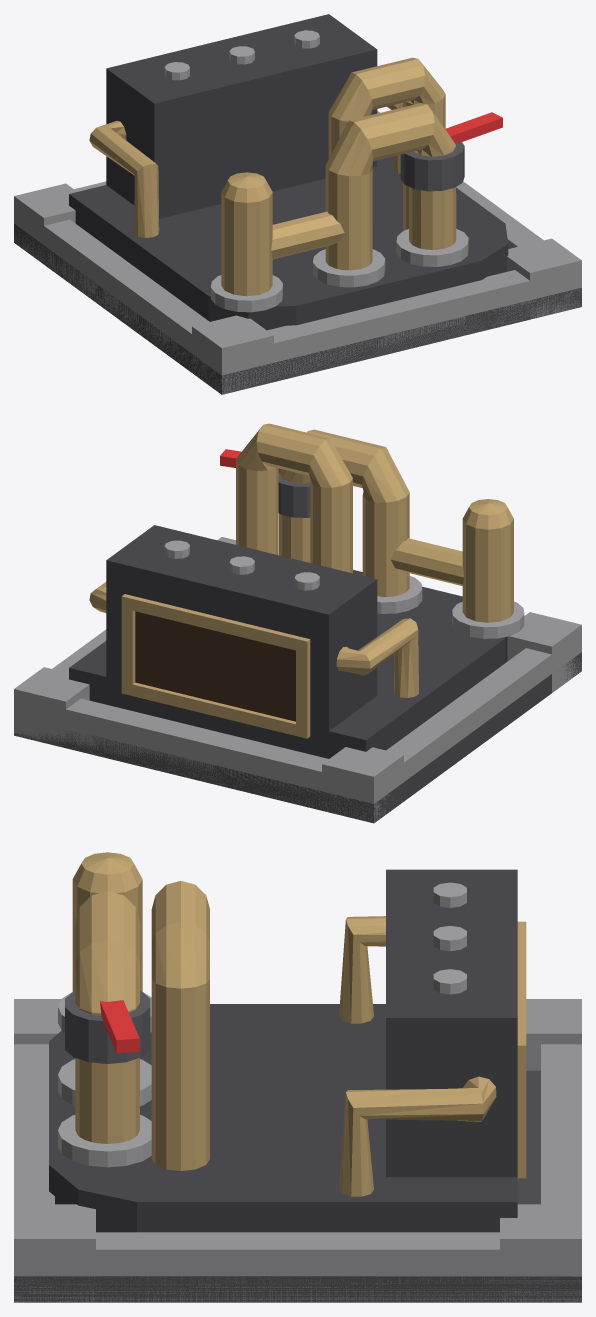
File: vge_oxygen_reclaimer.obj
The picture shows the model from 3 angles, top to bottom: view 1: azimuth 30°, elevation 25°; view 2: azimuth 150°, elevation 25°; view 3: azimuth 270°, elevation 25°; orthographic projection. The views are drawn at different scales.
Visible parts, largest first — view 1: vge_oxygen_reclaimer_10, vge_oxygen_reclaimer_9, vge_oxygen_reclaimer_1, vge_oxygen_reclaimer_25, vge_oxygen_reclaimer_0, vge_oxygen_reclaimer_3, vge_oxygen_reclaimer_24, vge_oxygen_reclaimer_27, vge_oxygen_reclaimer_19, vge_oxygen_reclaimer_5, vge_oxygen_reclaimer_7, vge_oxygen_reclaimer_26 (+8 smaller); view 2: vge_oxygen_reclaimer_10, vge_oxygen_reclaimer_2, vge_oxygen_reclaimer_9, vge_oxygen_reclaimer_18, vge_oxygen_reclaimer_27, vge_oxygen_reclaimer_0, vge_oxygen_reclaimer_25, vge_oxygen_reclaimer_3, vge_oxygen_reclaimer_24, vge_oxygen_reclaimer_8, vge_oxygen_reclaimer_19, vge_oxygen_reclaimer_5 (+10 smaller); view 3: vge_oxygen_reclaimer_9, vge_oxygen_reclaimer_10, vge_oxygen_reclaimer_4, vge_oxygen_reclaimer_0, vge_oxygen_reclaimer_27, vge_oxygen_reclaimer_25, vge_oxygen_reclaimer_2, vge_oxygen_reclaimer_20, vge_oxygen_reclaimer_1, vge_oxygen_reclaimer_7, vge_oxygen_reclaimer_8, vge_oxygen_reclaimer_19 (+12 smaller).
Boxes of the visible parts, bbox=[...] form: vge_oxygen_reclaimer_10: bbox=[106, 14, 377, 218]; vge_oxygen_reclaimer_9: bbox=[69, 156, 508, 330]; vge_oxygen_reclaimer_1: bbox=[207, 268, 581, 394]; vge_oxygen_reclaimer_25: bbox=[325, 103, 456, 270]; vge_oxygen_reclaimer_0: bbox=[14, 223, 581, 394]; vge_oxygen_reclaimer_3: bbox=[29, 215, 209, 382]; vge_oxygen_reclaimer_24: bbox=[221, 172, 272, 296]; vge_oxygen_reclaimer_27: bbox=[328, 57, 445, 229]; vge_oxygen_reclaimer_19: bbox=[89, 120, 159, 237]; vge_oxygen_reclaimer_5: bbox=[192, 315, 273, 393]; vge_oxygen_reclaimer_7: bbox=[507, 238, 581, 319]; vge_oxygen_reclaimer_26: bbox=[271, 211, 344, 259]; vge_oxygen_reclaimer_10: bbox=[106, 525, 377, 758]; vge_oxygen_reclaimer_2: bbox=[14, 698, 388, 823]; vge_oxygen_reclaimer_9: bbox=[69, 570, 507, 758]; vge_oxygen_reclaimer_18: bbox=[135, 611, 295, 721]; vge_oxygen_reclaimer_27: bbox=[236, 423, 352, 573]; vge_oxygen_reclaimer_0: bbox=[14, 652, 581, 822]; vge_oxygen_reclaimer_25: bbox=[279, 429, 409, 596]; vge_oxygen_reclaimer_3: bbox=[386, 648, 551, 801]; vge_oxygen_reclaimer_24: bbox=[462, 499, 513, 622]; vge_oxygen_reclaimer_8: bbox=[14, 667, 89, 747]; vge_oxygen_reclaimer_19: bbox=[336, 618, 418, 697]; vge_oxygen_reclaimer_5: bbox=[507, 612, 581, 692]; vge_oxygen_reclaimer_9: bbox=[49, 1004, 517, 1232]; vge_oxygen_reclaimer_10: bbox=[386, 869, 517, 1177]; vge_oxygen_reclaimer_4: bbox=[55, 1232, 540, 1302]; vge_oxygen_reclaimer_0: bbox=[14, 1070, 581, 1302]; vge_oxygen_reclaimer_27: bbox=[151, 881, 209, 1170]; vge_oxygen_reclaimer_25: bbox=[75, 891, 139, 1143]; vge_oxygen_reclaimer_2: bbox=[541, 1044, 581, 1302]; vge_oxygen_reclaimer_20: bbox=[339, 1076, 496, 1196]; vge_oxygen_reclaimer_1: bbox=[14, 1044, 54, 1302]; vge_oxygen_reclaimer_7: bbox=[14, 1204, 95, 1302]; vge_oxygen_reclaimer_8: bbox=[500, 1204, 581, 1302]; vge_oxygen_reclaimer_19: bbox=[339, 916, 385, 1023].
Bounding box in the file's own units: 1.94 × 1.18 × 1.94.
